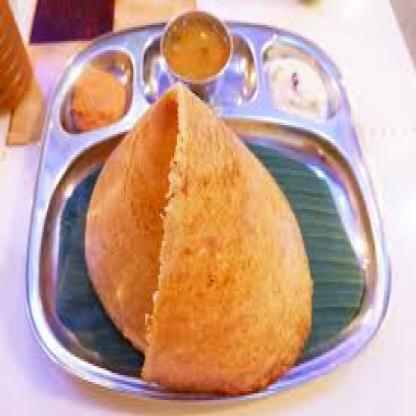dosa: (86, 82, 312, 393)
